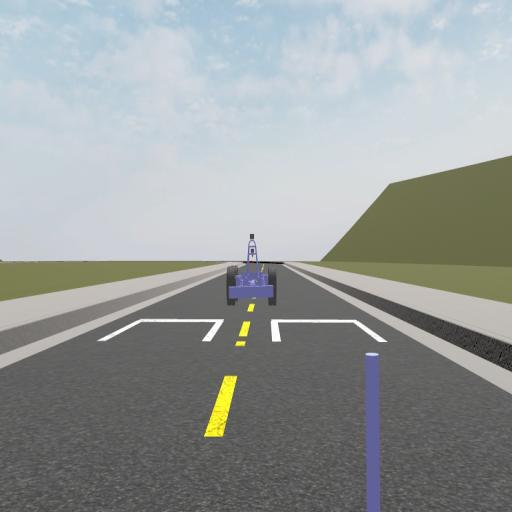ERP-42: (227, 232, 277, 304)
